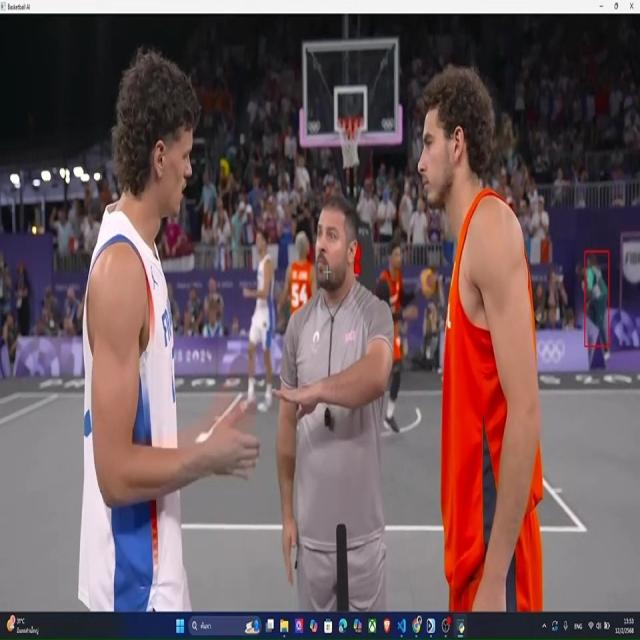hoop: (335, 116, 367, 170)
